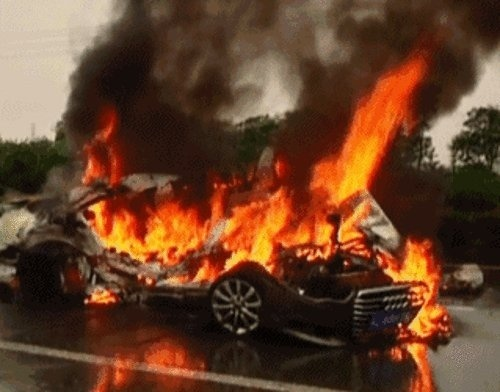fire: (73, 53, 461, 302)
